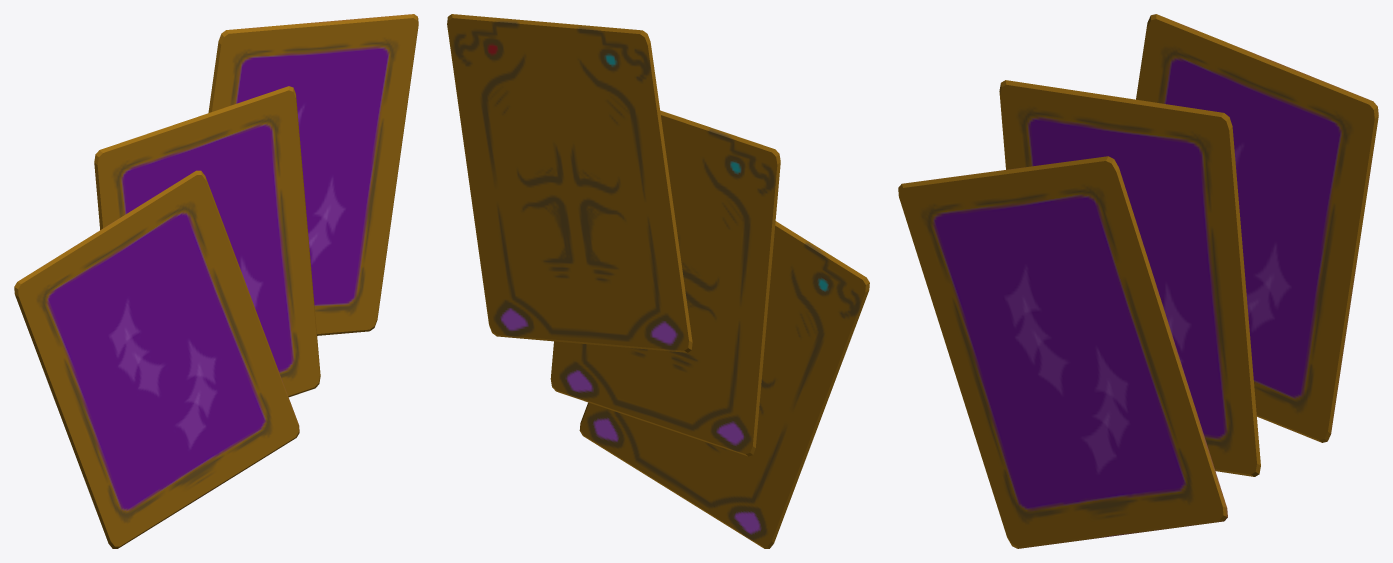
File: Cards.fbx
The picture shows the model from 3 angles, left to right: view 1: azimuth 30°, elevation 25°; view 2: azimuth 150°, elevation 25°; view 3: azimuth 330°, elevation 25°; orthographic projection. The views are drawn at different scales.
Parts seen in each view (by area): view 1: Weapon; view 2: Weapon; view 3: Weapon.
Boxes of the visible parts, bbox=[...] form: Weapon: bbox=[14, 14, 418, 548]; Weapon: bbox=[447, 14, 869, 548]; Weapon: bbox=[898, 14, 1378, 548].
Bounding box in the file's own units: 14.39 × 16.31 × 0.5139.
